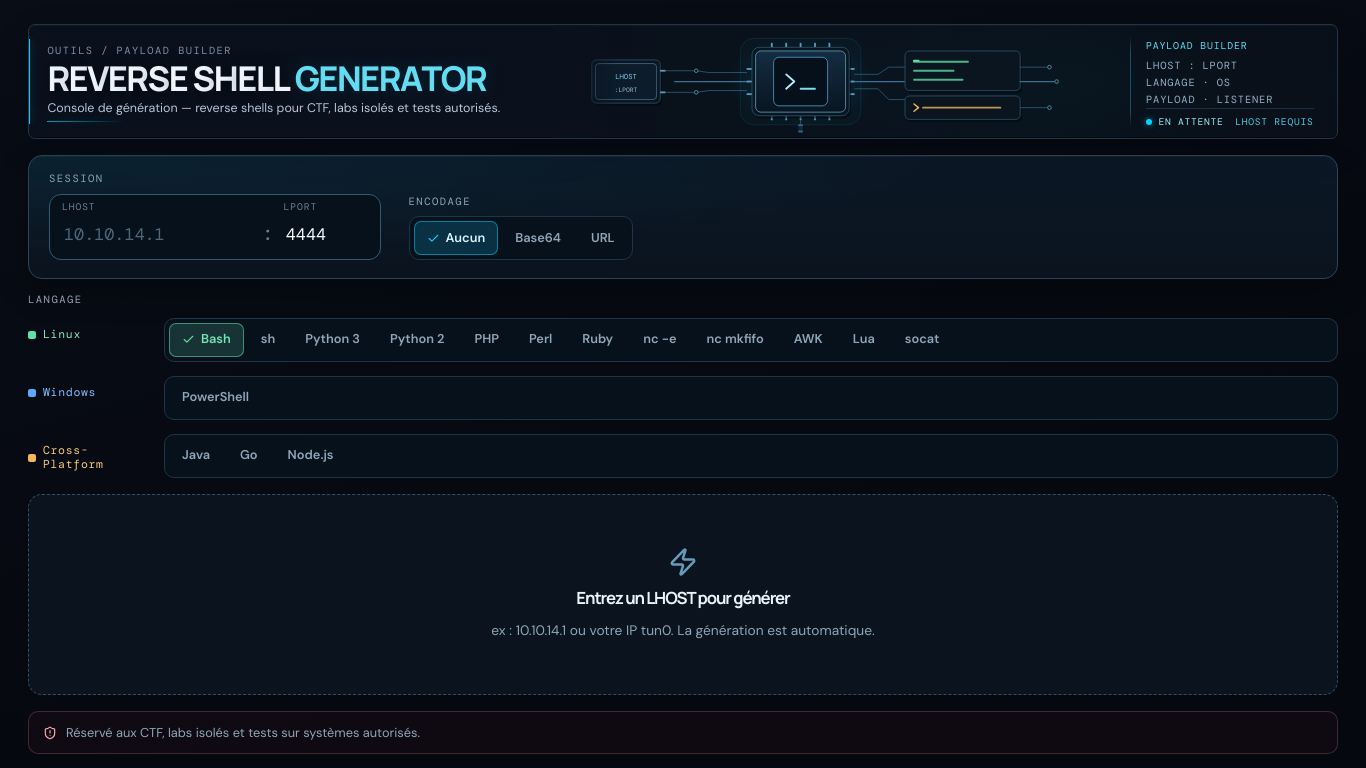
Test: Reverse Shell Generator request state › lets the newest host request win when the older request resolves last
The image size is (1366, 768).
Type "host-a" into the field labelled "LHOST".
click(157, 234); type("host-a")  # box [62,216,252,252]
Wait 300 ms
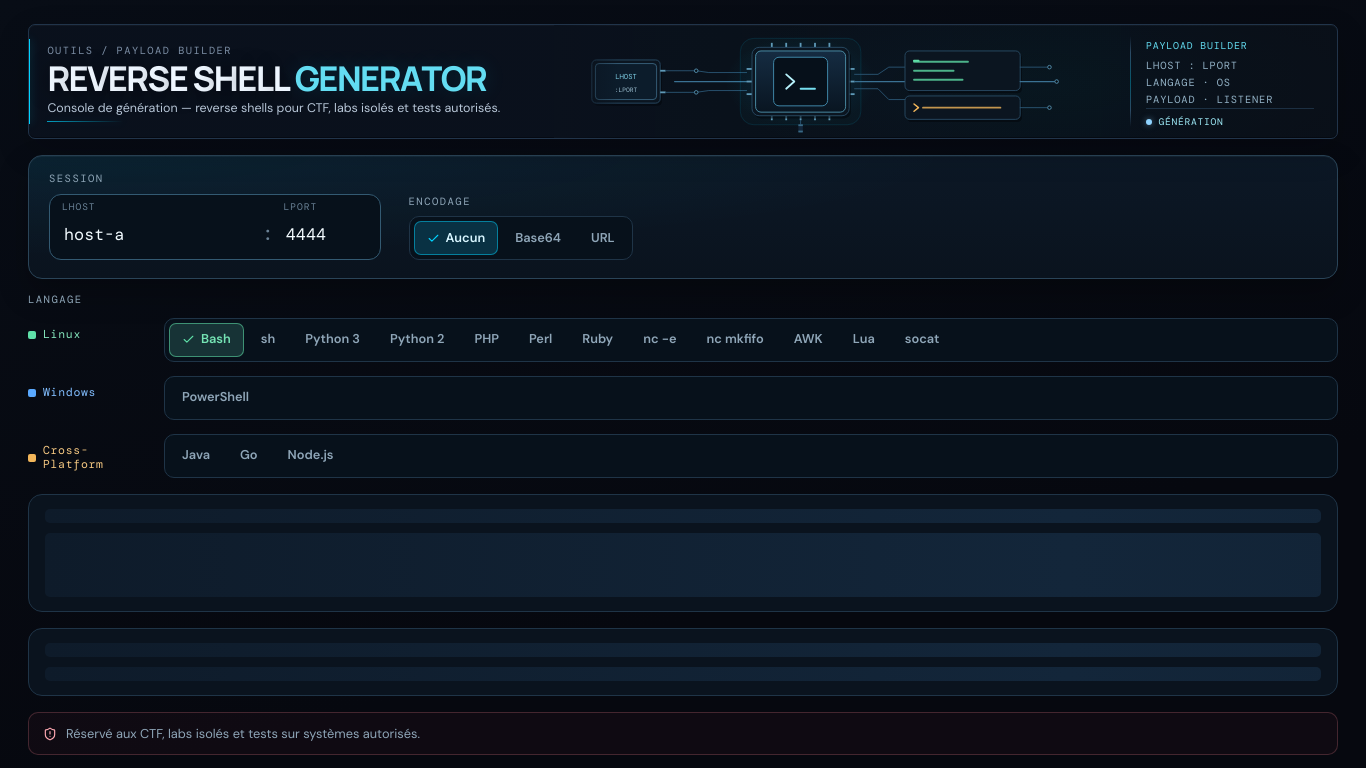
Replace the text in the field labelled "LHOST" with "host-b" at coordinates (157, 234), box [62,216,252,252]
Wait 300 ms
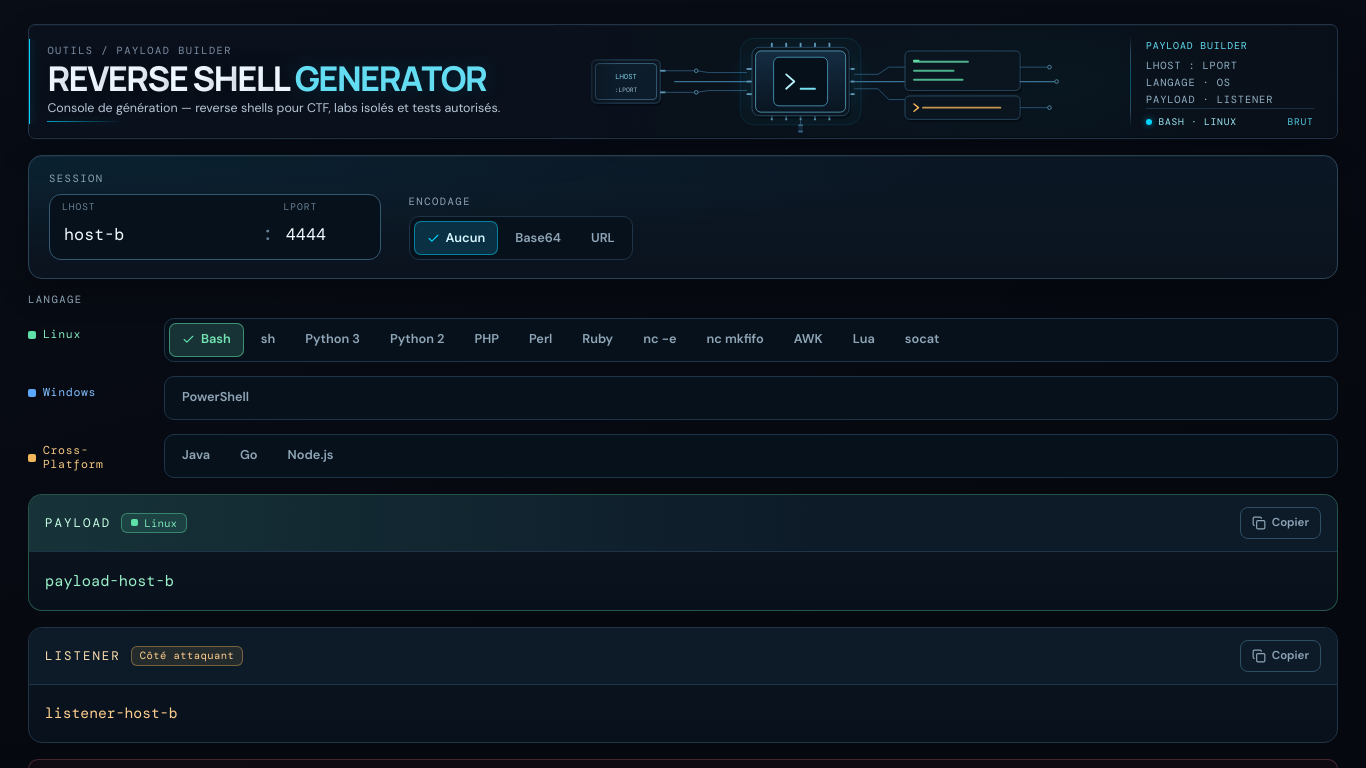
Check: the text "payload-host-b" is shown, box [45,571,174,591]
